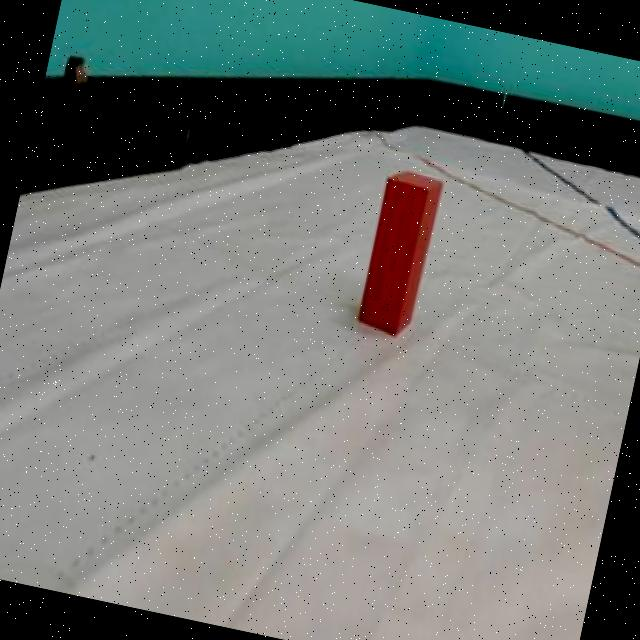redbox: (352, 162, 442, 340)
